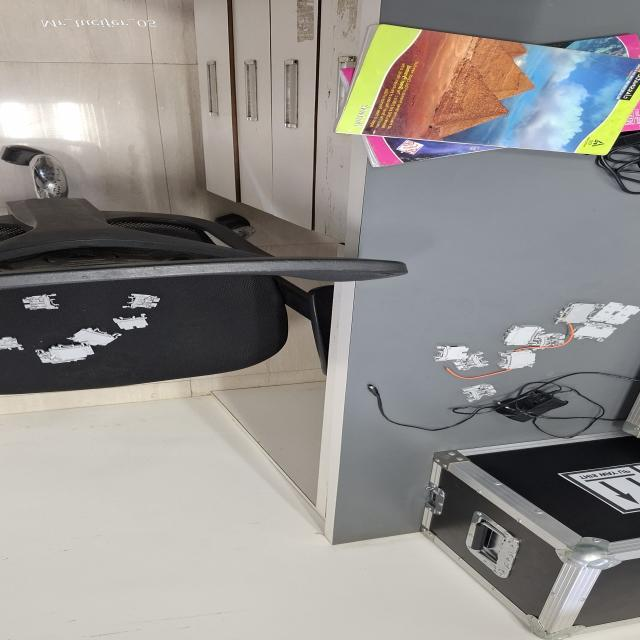Inverted: (109, 312, 158, 330), (427, 344, 471, 362)
Pass: (450, 350, 492, 370), (532, 332, 566, 351)
Reject: (16, 292, 68, 312), (460, 382, 500, 402), (120, 292, 164, 310), (0, 336, 27, 352)
